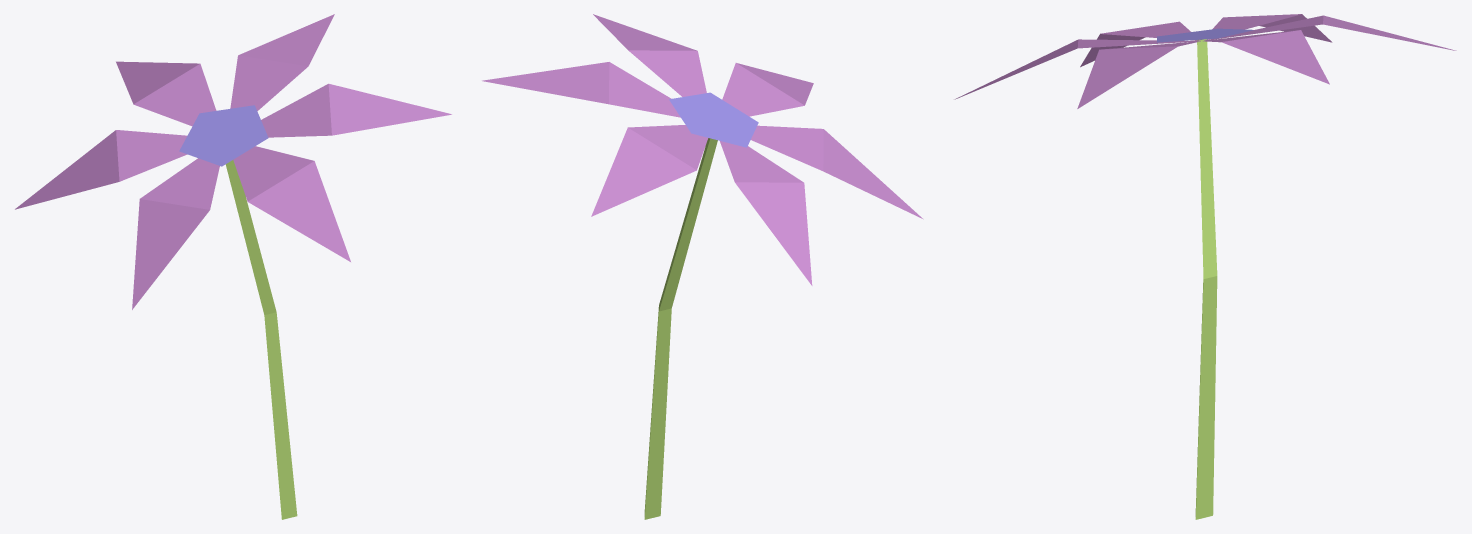
File: Flower_b_TwoS_04.fbx
The picture shows the model from 3 angles, left to right: view 1: azimuth 30°, elevation 25°; view 2: azimuth 150°, elevation 25°; view 3: azimuth 270°, elevation 25°; orthographic projection. The views are drawn at different scales.
Visible parts, largest first — view 1: Flower_b_TwoS_04; view 2: Flower_b_TwoS_04; view 3: Flower_b_TwoS_04.
Part boxes in pixels (<box>): Flower_b_TwoS_04: <box>15,14,451,519</box>; Flower_b_TwoS_04: <box>482,14,923,519</box>; Flower_b_TwoS_04: <box>954,14,1456,519</box>.
Size of the model in its own units: 0.3269 by 0.4193 by 0.392.
